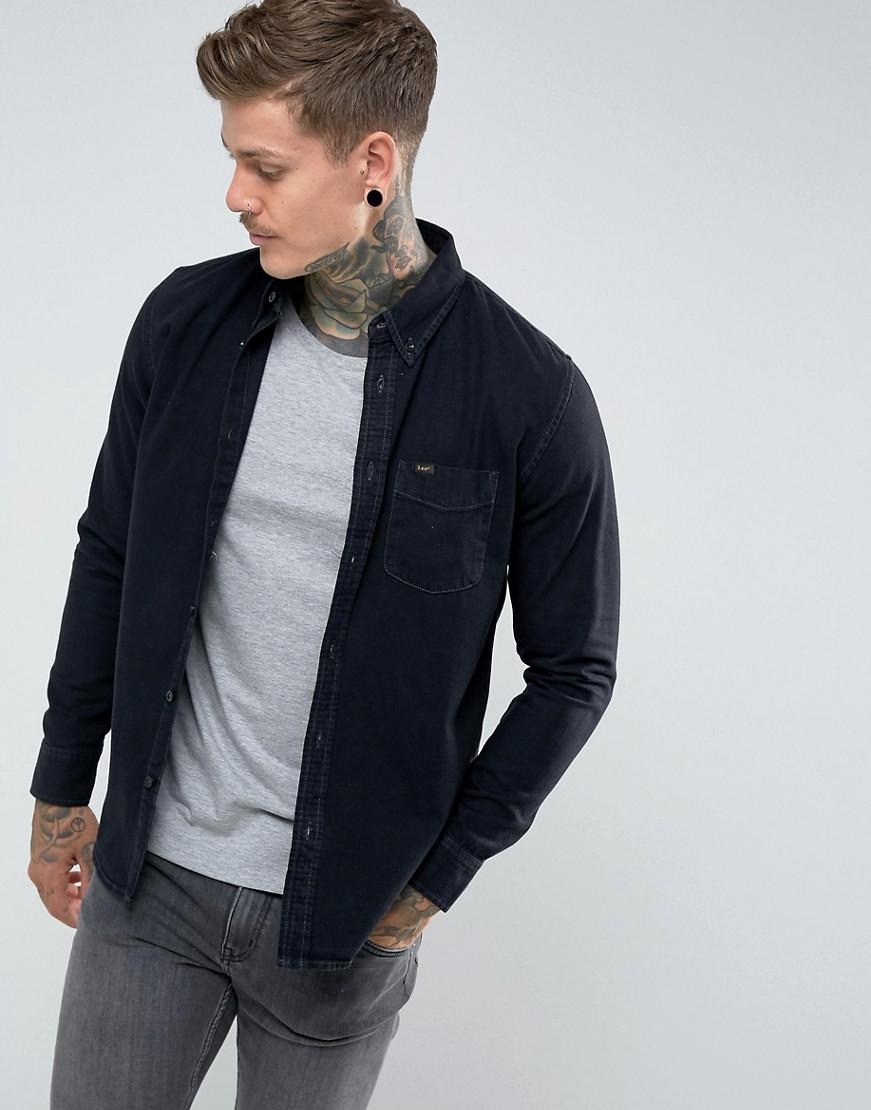teeshirt: (34, 254, 661, 930)
